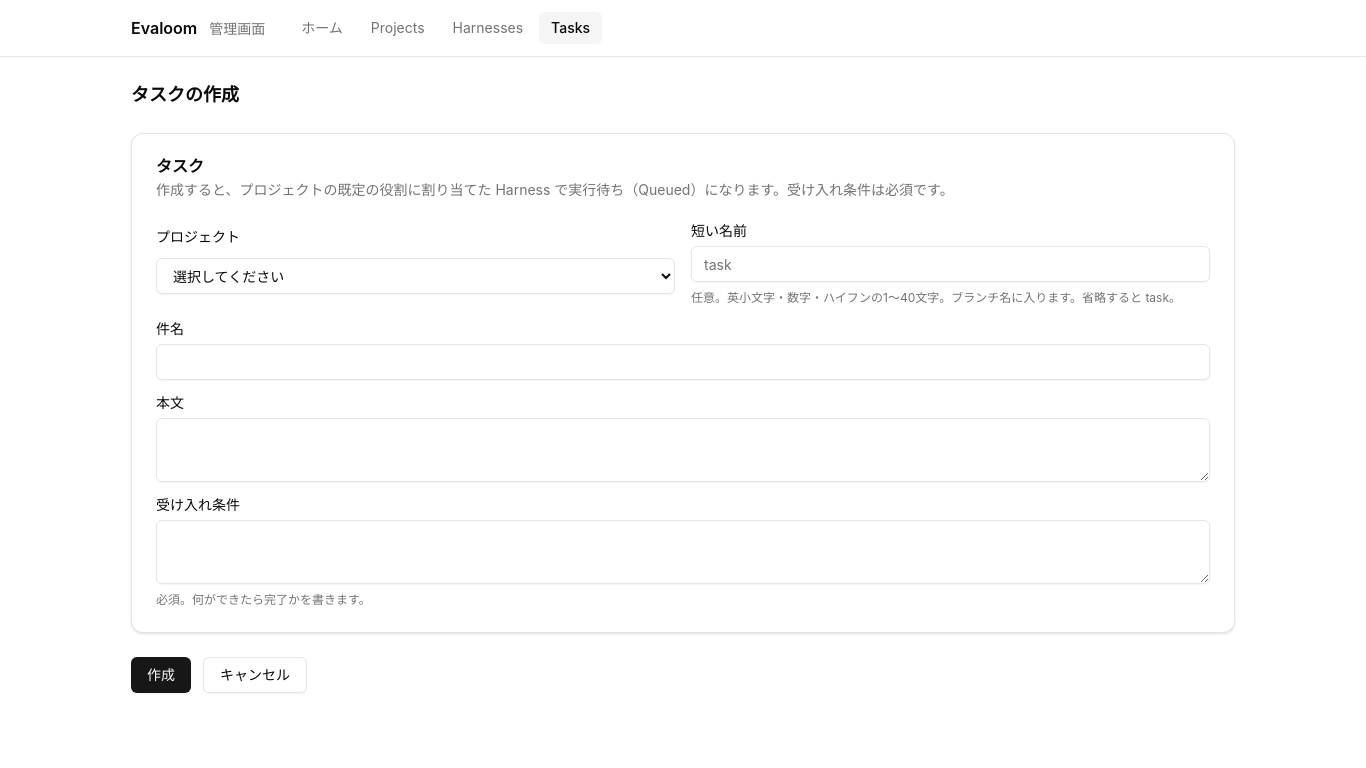
it: タスク作成 › サーバーが受け入れ条件を 400 で拒否したら details を項目に出す
Select "Alpha" in the dropdown labelled "プロジェクト" at [416, 276], box [156,258,675,294]
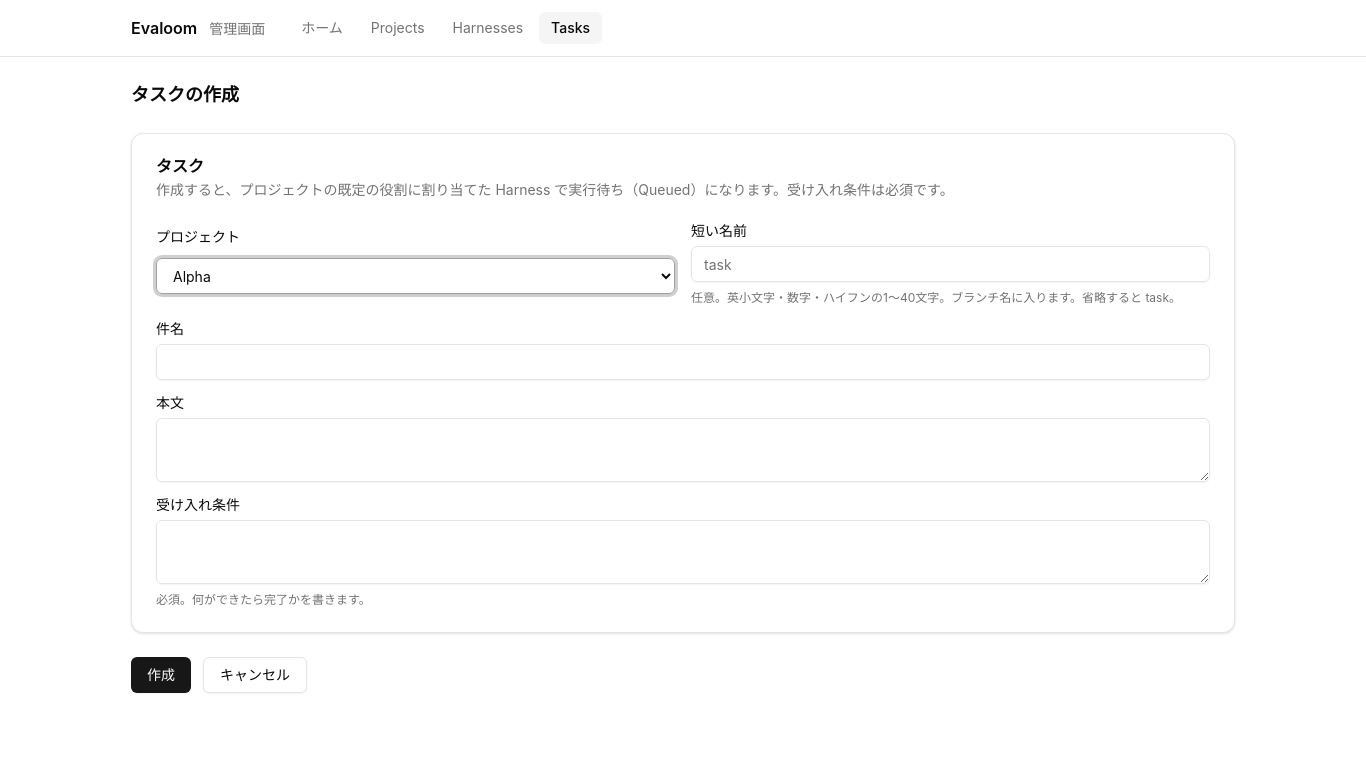
Type "ログイン画面" into the field labelled "件名" at [683, 362], box [156,344,1210,380]
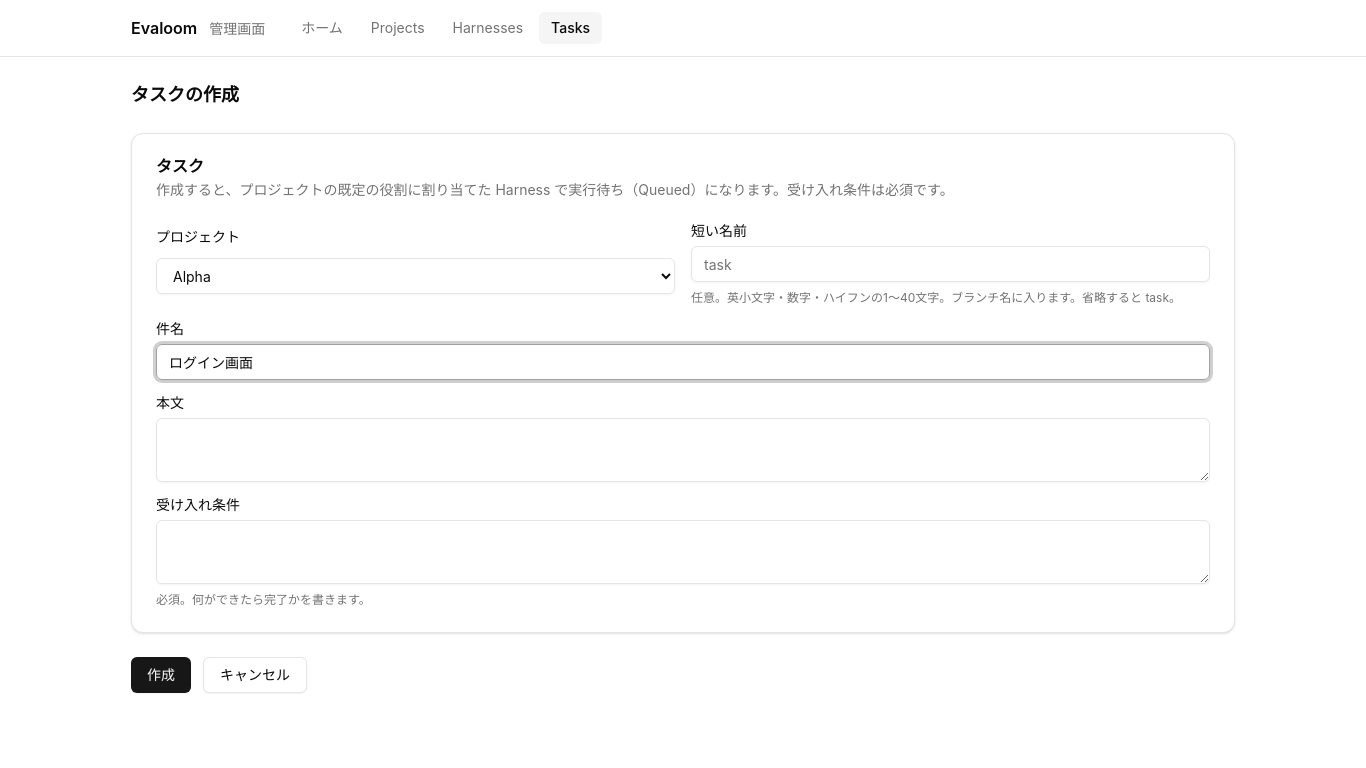
Type "ログインフォームを作る" into the text box labelled "本文" at [683, 450], box [156,418,1210,482]
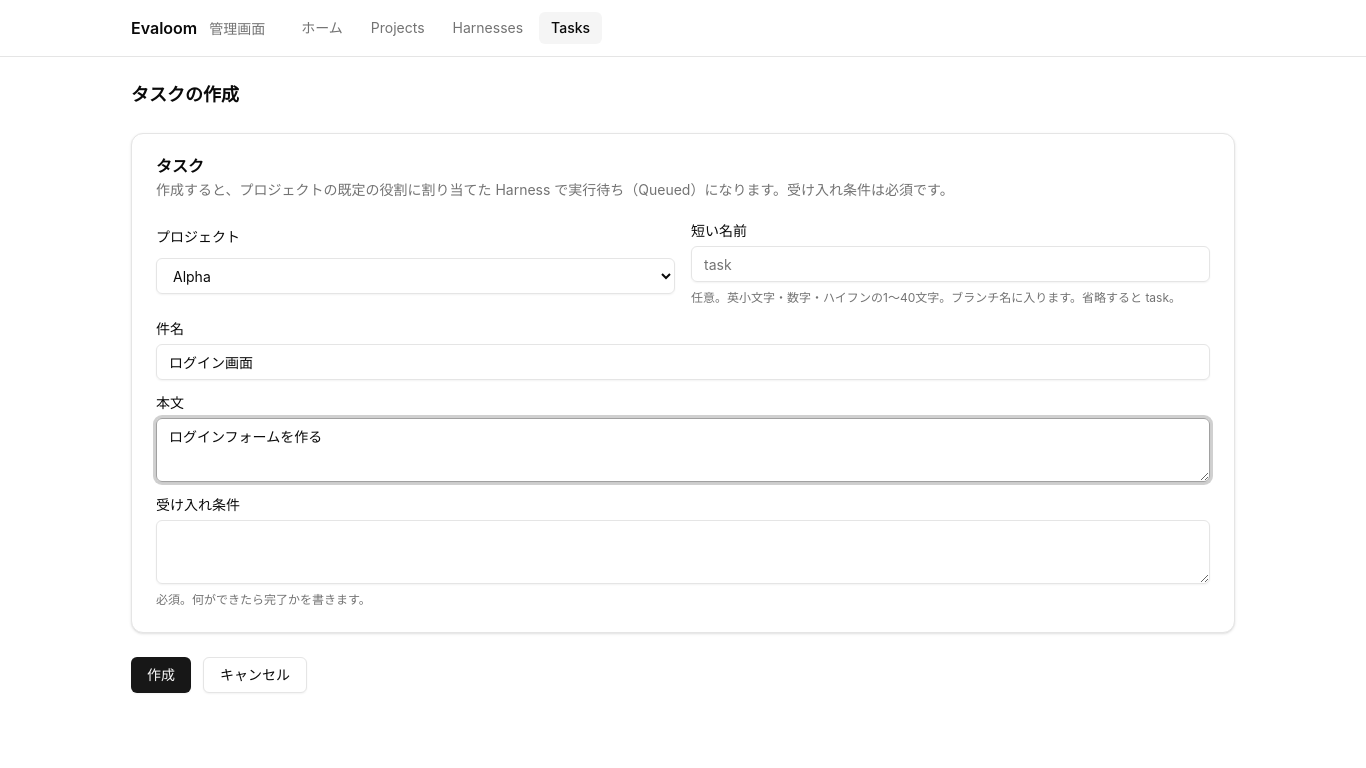
Type "条件" into the text box labelled "受け入れ条件" at [683, 552], box [156,520,1210,584]
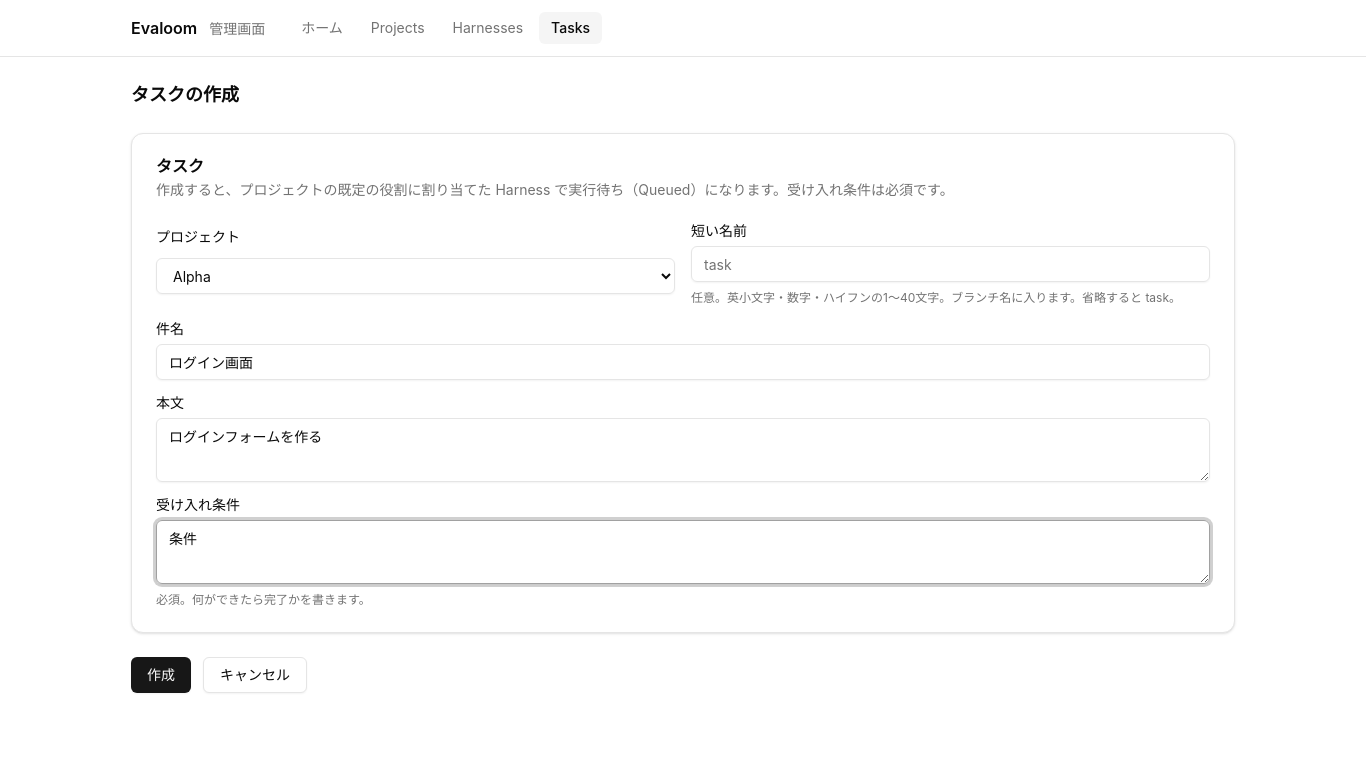
Click the button "作成" at [161, 675], box [131,657,191,693]
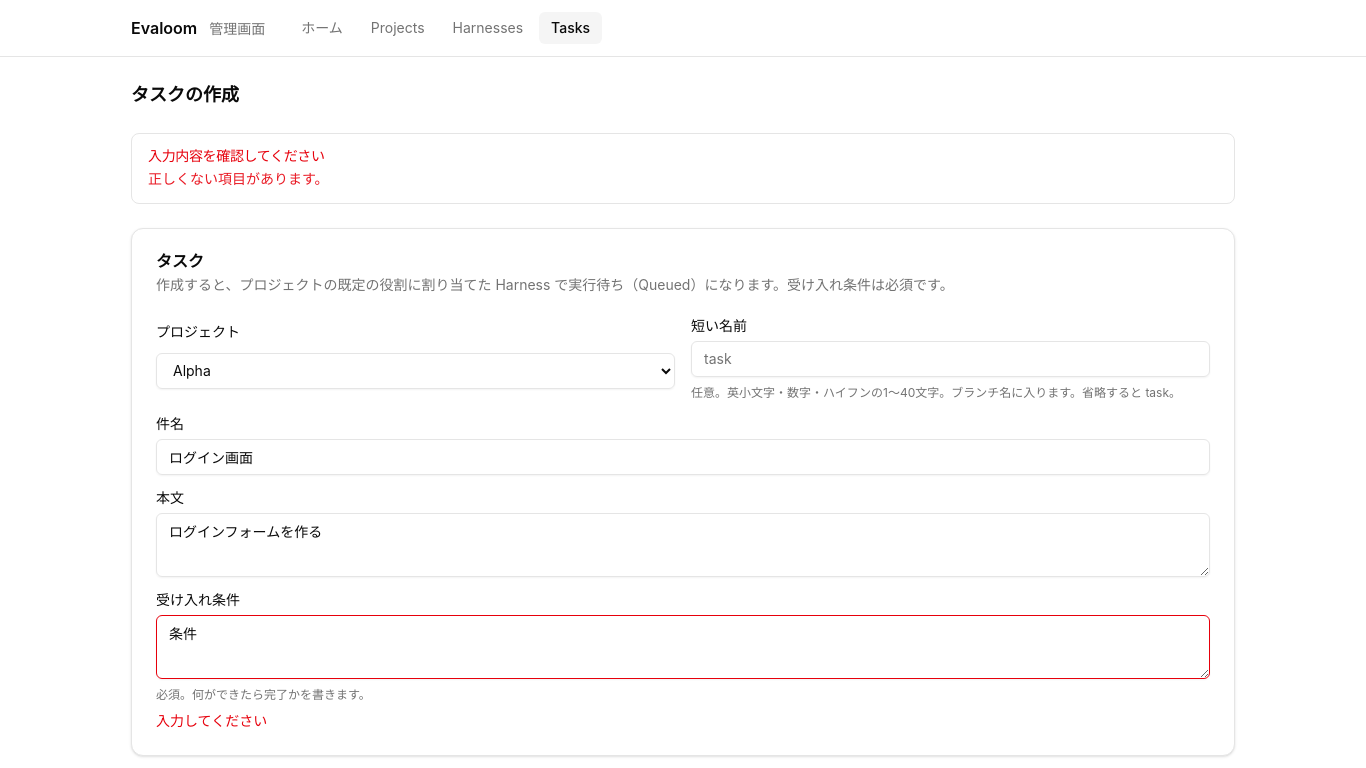
Now the text "入力してください" is shown, box [156,712,267,729]
